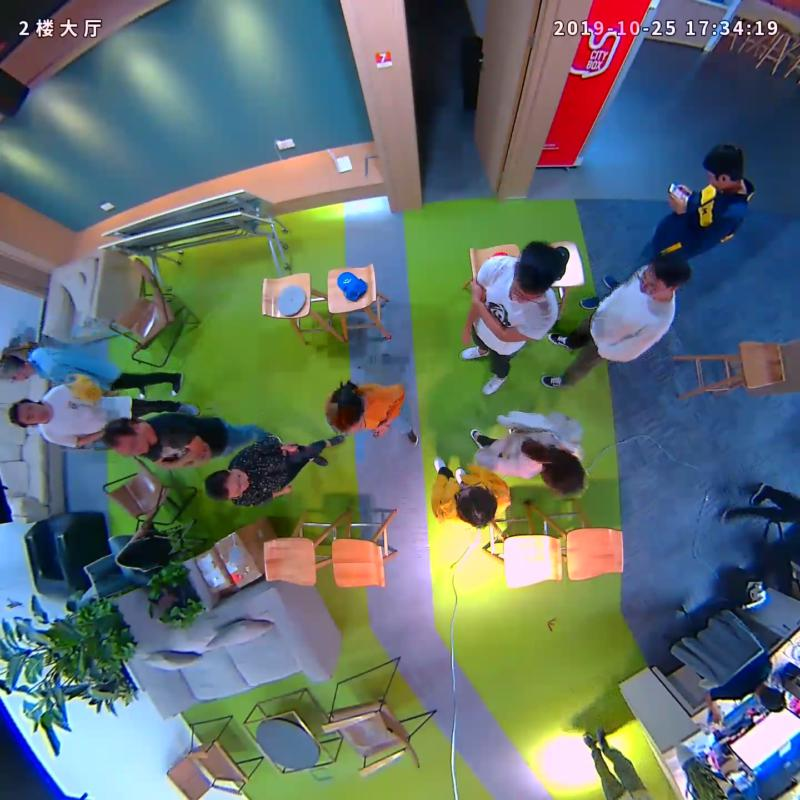head: (511, 240, 564, 304), (637, 254, 692, 297), (542, 447, 586, 497), (702, 143, 742, 190), (455, 484, 495, 528), (105, 417, 148, 456), (325, 385, 362, 430), (205, 470, 248, 501), (7, 397, 45, 428), (1, 355, 31, 382)
